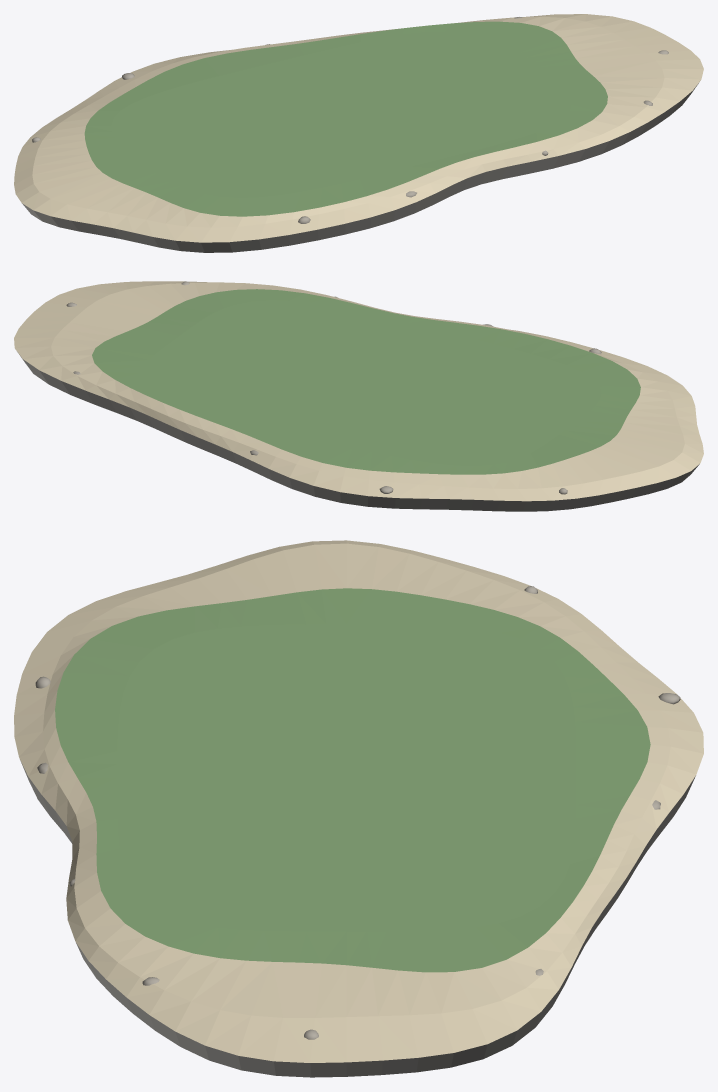
The model's file is MIL_Island_L.fbx.
The picture shows the model from 3 angles, top to bottom: view 1: azimuth 30°, elevation 25°; view 2: azimuth 150°, elevation 25°; view 3: azimuth 270°, elevation 25°; orthographic projection. The views are drawn at different scales.
Visible parts, largest first — view 1: MIL_Island_L_MAT_IslandGrass, MIL_Island_L_MAT_IslandSand, Bank_3.003, MIL_Island_L_MAT_IslandCliff; view 2: MIL_Island_L_MAT_IslandGrass, MIL_Island_L_MAT_IslandSand, Bank_3.003; view 3: MIL_Island_L_MAT_IslandGrass, MIL_Island_L_MAT_IslandSand, Bank_3.003, MIL_Island_L_MAT_IslandCliff.
Boxes of the visible parts, x1,y1,x2,y2 form: MIL_Island_L_MAT_IslandGrass: [84, 21, 607, 216]; MIL_Island_L_MAT_IslandSand: [14, 14, 703, 242]; Bank_3.003: [22, 83, 698, 252]; MIL_Island_L_MAT_IslandCliff: [32, 17, 668, 223]; MIL_Island_L_MAT_IslandGrass: [92, 289, 640, 474]; MIL_Island_L_MAT_IslandSand: [14, 281, 703, 501]; Bank_3.003: [17, 352, 699, 511]; MIL_Island_L_MAT_IslandGrass: [55, 588, 650, 972]; MIL_Island_L_MAT_IslandSand: [14, 540, 703, 1062]; Bank_3.003: [20, 760, 695, 1077]; MIL_Island_L_MAT_IslandCliff: [35, 586, 680, 1039].
Size of the model in its own units: 12951 by 455 by 7225.
